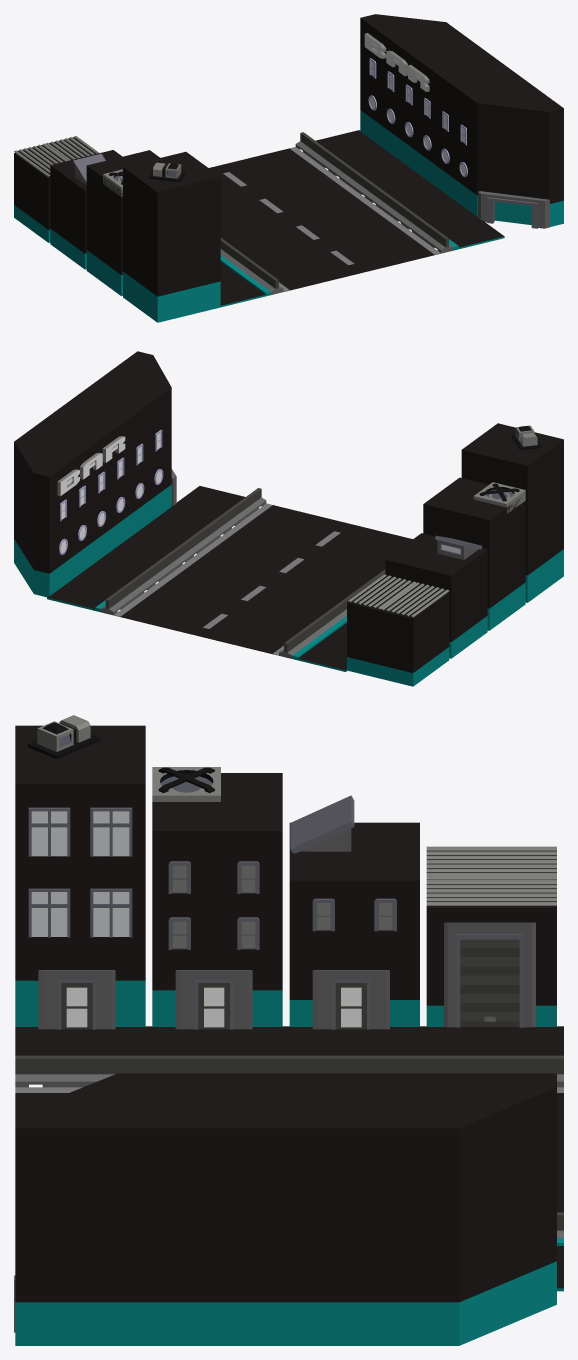
3 views of the same model, one above another, from view 1: azimuth 30°, elevation 25°; view 2: azimuth 150°, elevation 25°; view 3: azimuth 270°, elevation 25° (orthographic). The views are drawn at different scales.
Parts seen in each view (by area): view 1: block (×5), roof_flatCenter (×2), block_corner_large (×2), roof_flatEdge (×2), detail_roadBlockSmall (×5), doorway_wide, sheet_block (×2), sign_bar, detail_ventMedium, roof_windowLarge, detail_ventLarge; view 2: block (×5), roof_flatCenter (×2), block_corner_large (×2), roof_flatEdge (×2), detail_roadBlockSmall (×6), sheet_block (×4), sign_bar, detail_ventLarge, roof_windowLarge, detail_ventMedium; view 3: block (×5), block_corner_large (×2), roof_flatEdge, doorway_doorGlass (×3), detail_roadBlockSmall (×4), doorway_wideGarageRoll, door_wide (×4), sheet_block (×4), roof_windowLarge, detail_ventLarge, detail_ventMedium, roof_flatCenter.
Boxes of the visible parts, x1,y1,x2,y2 form: block (×5): (14,28,527,322); roof_flatCenter (×2): (209,147,440,291); block_corner_large (×2): (360,14,563,226); roof_flatEdge (×2): (220,130,504,307); detail_roadBlockSmall (×5): (235,132,453,294); doorway_wide: (478,191,549,228); sheet_block (×2): (14,136,92,163); sign_bar: (364,33,429,91); detail_ventMedium: (148,162,185,182); roof_windowLarge: (72,153,105,185); detail_ventLarge: (103,169,122,196); block (×5): (23,379,563,686); roof_flatCenter (×2): (114,503,412,654); block_corner_large (×2): (14,351,171,597); roof_flatEdge (×2): (47,486,347,671); detail_roadBlockSmall (×6): (100,488,363,658); sheet_block (×4): (348,574,448,617); sign_bar: (57,436,125,496); detail_ventLarge: (473,482,525,513); roof_windowLarge: (435,535,482,559); detail_ventMedium: (511,425,542,450); block (×5): (15,725,556,1345); block_corner_large (×2): (15,1073,556,1345); roof_flatEdge: (15,1026,563,1055); doorway_doorGlass (×3): (38,970,389,1029); detail_roadBlockSmall (×4): (15,1055,563,1087); doorway_wideGarageRoll: (444,922,535,1027); door_wide (×4): (28,807,132,937); sheet_block (×4): (426,846,556,905); roof_windowLarge: (290,795,354,853); detail_ventLarge: (152,767,220,801); detail_ventMedium: (27,715,100,759); roof_flatCenter: (15,1093,563,1212).
Size of the model in its own units: 129 by 43.5 by 80.18.
